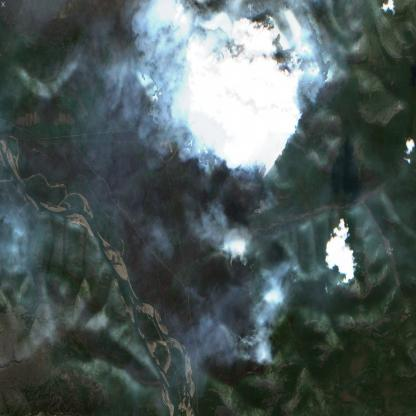fire: (202, 96, 278, 382)
